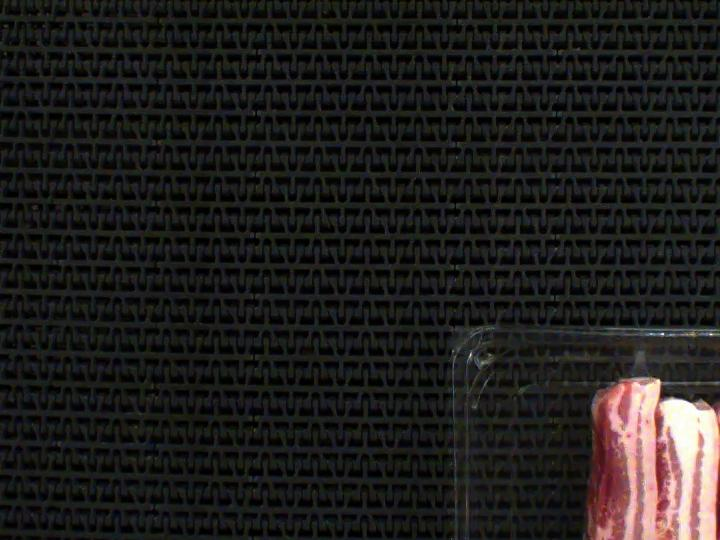packaging-error: (628, 339, 660, 386)
